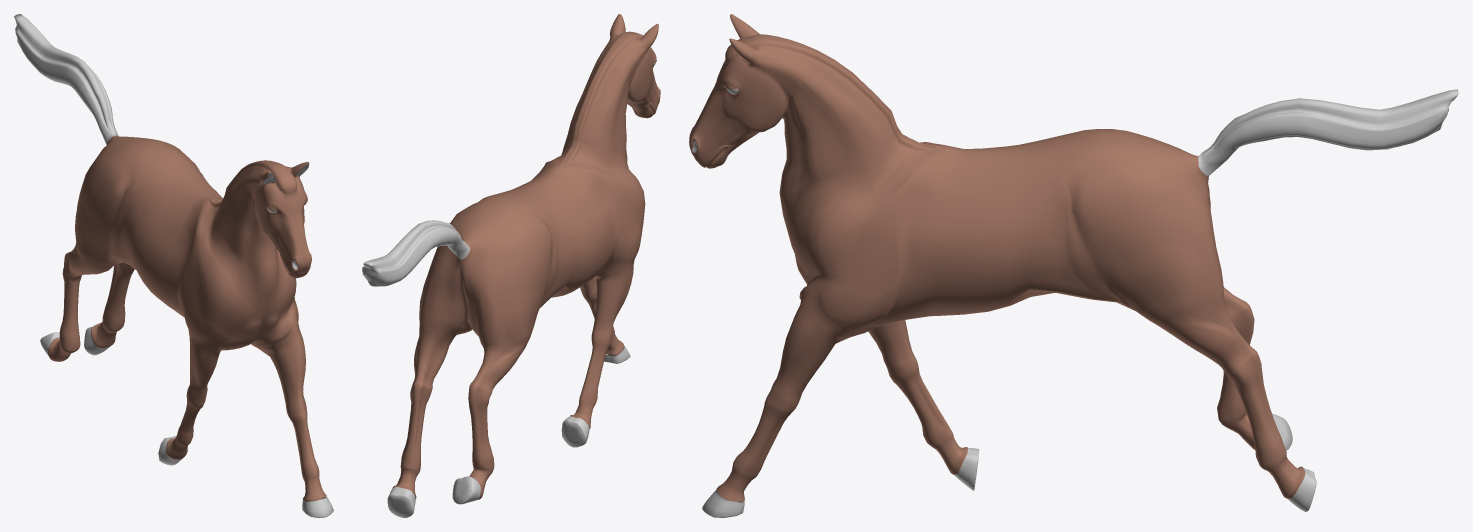
File: horse_obj_1.obj
3 views of the same model, side by side, from view 1: azimuth 30°, elevation 25°; view 2: azimuth 150°, elevation 25°; view 3: azimuth 270°, elevation 25° (orthographic). The views are drawn at different scales.
Parts seen in each view (by area): view 1: Figure_1; view 2: Figure_1; view 3: Figure_1.
Boxes of the visible parts, x1=… form: Figure_1: x1=14, y1=14, x2=333, y2=517; Figure_1: x1=362, y1=14, x2=660, y2=517; Figure_1: x1=689, y1=14, x2=1458, y2=517.
Bounding box in the file's own units: 0.2421 × 0.8194 × 1.19.
